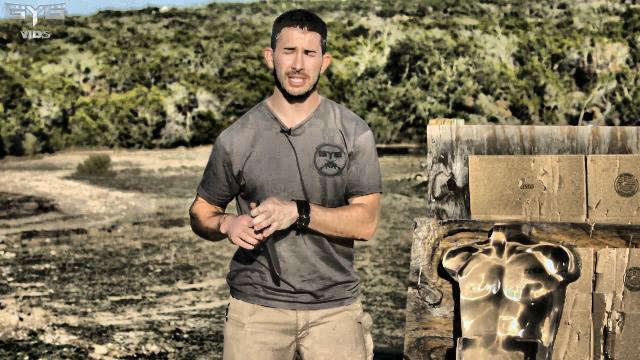knife: (232, 199, 284, 279)
